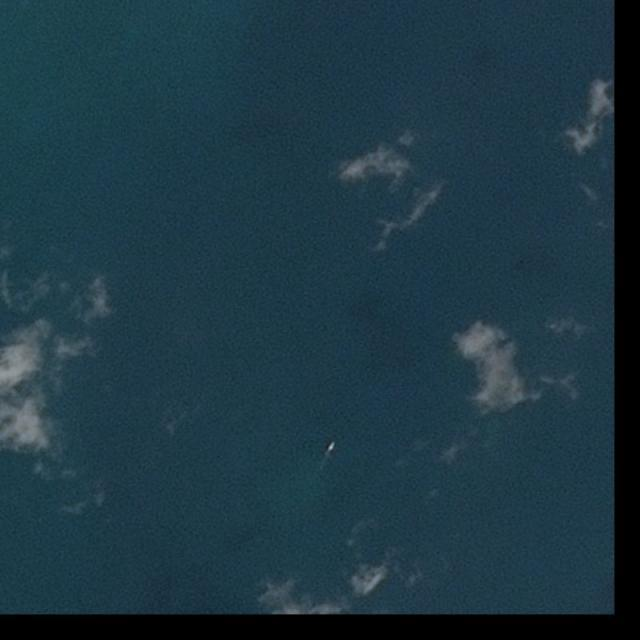ship: (327, 440, 338, 454)
